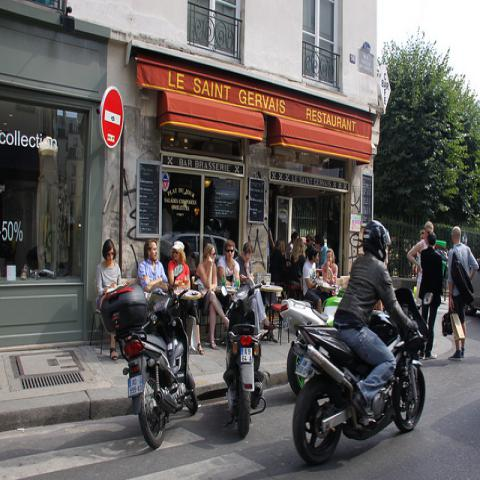motorcycle: (293, 289, 431, 468), (99, 262, 199, 450), (221, 288, 267, 441), (280, 296, 343, 392)
